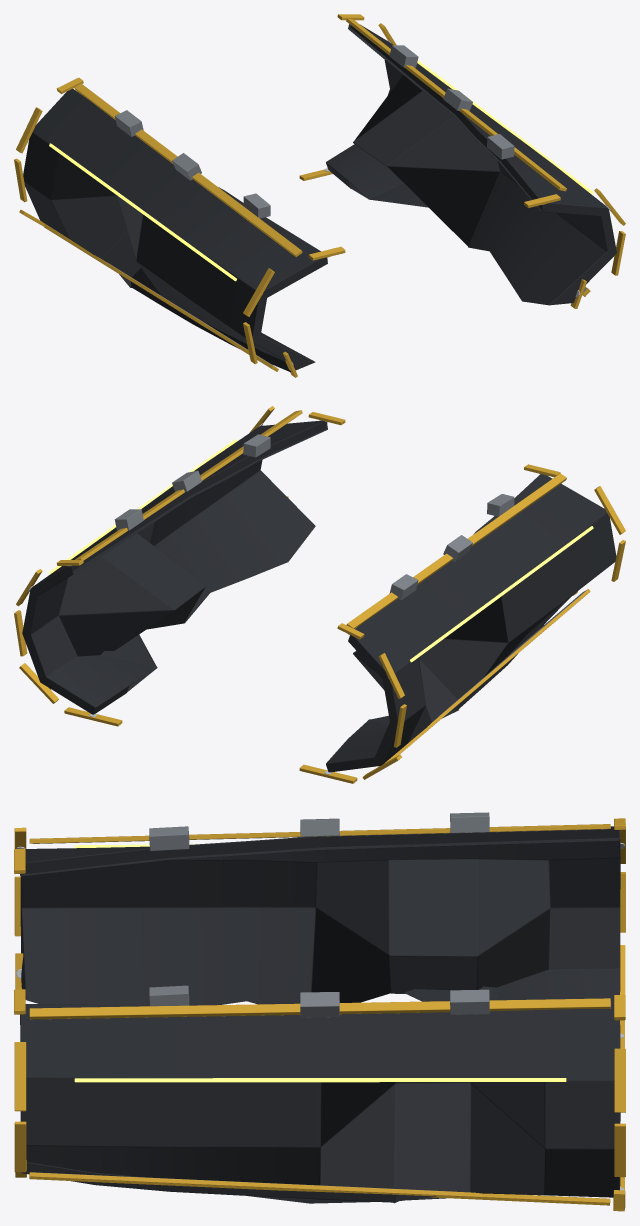
File: wraith_armor_aegis.fbx
3 renders of one model, top to bottom at view 1: azimuth 30°, elevation 25°; view 2: azimuth 150°, elevation 25°; view 3: azimuth 270°, elevation 25°, orthographic. The views are drawn at different scales.
Visible parts, largest first — view 1: Armor_Aegis_L, Armor_Aegis_R, Armor_Aegis_Bits_<Vector (-0.8325, 0.1137, 0.5725)>, Armor_Aegis_Bits_<Vector (0.8325, 0.1137, 0.5725)>; view 2: Armor_Aegis_R, Armor_Aegis_L, Armor_Aegis_Bits_<Vector (-0.8325, 0.1137, 0.5725)>, Armor_Aegis_Bits_<Vector (0.8325, 0.1137, 0.5725)>; view 3: Armor_Aegis_R, Armor_Aegis_L, Armor_Aegis_Bits_<Vector (0.8325, 0.1137, 0.5725)>, Armor_Aegis_Bits_<Vector (-0.8325, 0.1137, 0.5725)>.
Boxes of the visible parts, bbox=[...] form: Armor_Aegis_L: bbox=[23, 89, 327, 372]; Armor_Aegis_R: bbox=[326, 24, 616, 305]; Armor_Aegis_Bits_<Vector (-0.8325, 0.1137, 0.5725)>: bbox=[14, 77, 345, 377]; Armor_Aegis_Bits_<Vector (0.8325, 0.1137, 0.5725)>: bbox=[299, 14, 625, 308]; Armor_Aegis_R: bbox=[22, 420, 327, 714]; Armor_Aegis_L: bbox=[326, 474, 616, 772]; Armor_Aegis_Bits_<Vector (-0.8325, 0.1137, 0.5725)>: bbox=[299, 464, 625, 783]; Armor_Aegis_Bits_<Vector (0.8325, 0.1137, 0.5725)>: bbox=[14, 406, 345, 726]; Armor_Aegis_R: bbox=[20, 1004, 620, 1203]; Armor_Aegis_L: bbox=[20, 826, 620, 1008]; Armor_Aegis_Bits_<Vector (0.8325, 0.1137, 0.5725)>: bbox=[14, 985, 625, 1211]; Armor_Aegis_Bits_<Vector (-0.8325, 0.1137, 0.5725)>: bbox=[14, 812, 625, 1048].
Bounding box in the file's own units: 183 × 72.11 × 187.
